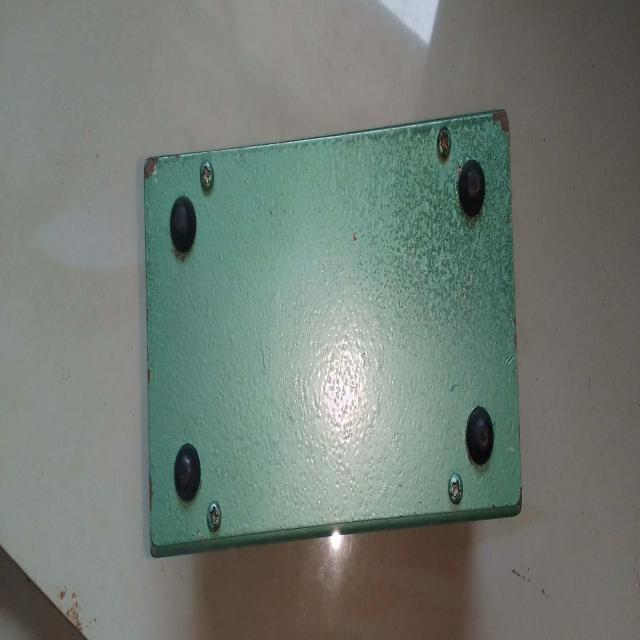Decade Resistance Box: (132, 97, 536, 562)
